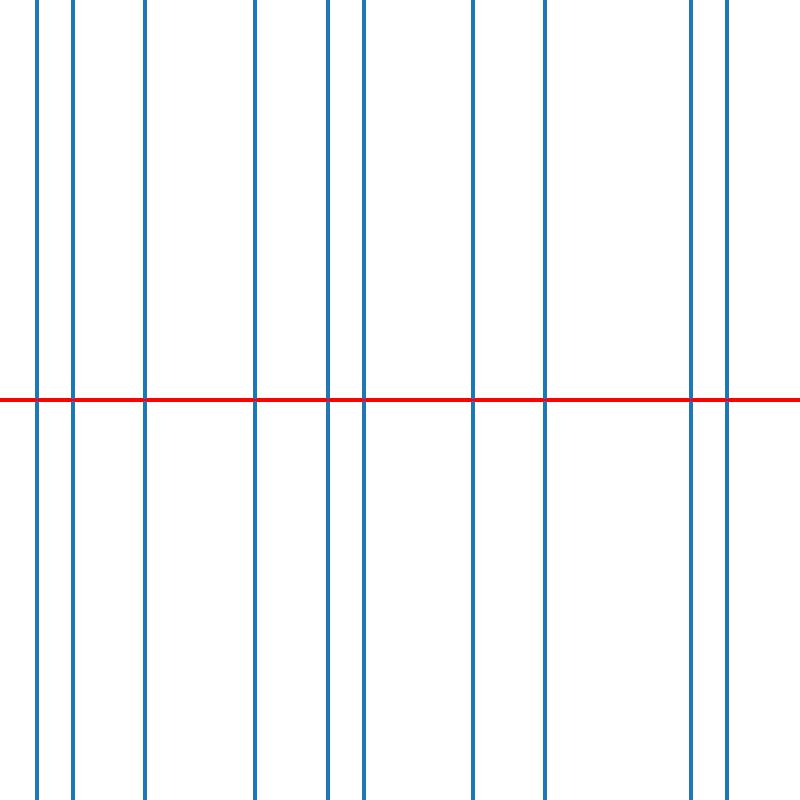root: (32, 396, 40, 404), (541, 396, 549, 404), (141, 396, 149, 404), (250, 396, 258, 404), (723, 396, 730, 404), (323, 396, 330, 404), (360, 396, 367, 404), (687, 396, 694, 404), (69, 396, 76, 404), (469, 396, 476, 404)
